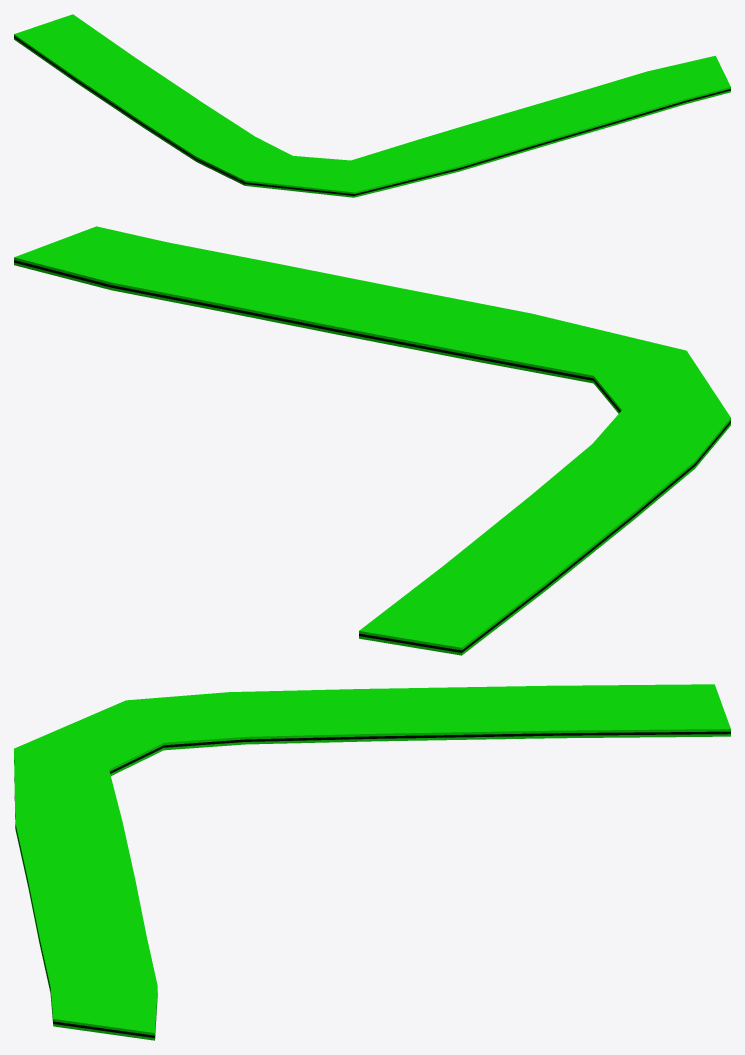
File: CardboardRoad01fbx.fbx
The picture shows the model from 3 angles, top to bottom: view 1: azimuth 30°, elevation 25°; view 2: azimuth 150°, elevation 25°; view 3: azimuth 270°, elevation 25°; orthographic projection. The views are drawn at different scales.
Parts seen in each view (by area): view 1: Cube.011; view 2: Cube.011; view 3: Cube.011.
Boxes of the visible parts, <box> form: Cube.011: <box>14,14,730,197</box>; Cube.011: <box>14,226,730,655</box>; Cube.011: <box>14,684,730,1040</box>.
Bounding box in the file's own units: 3209 × 32.53 × 2788.
